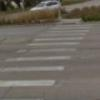crosswalks: (0, 23, 94, 100)
